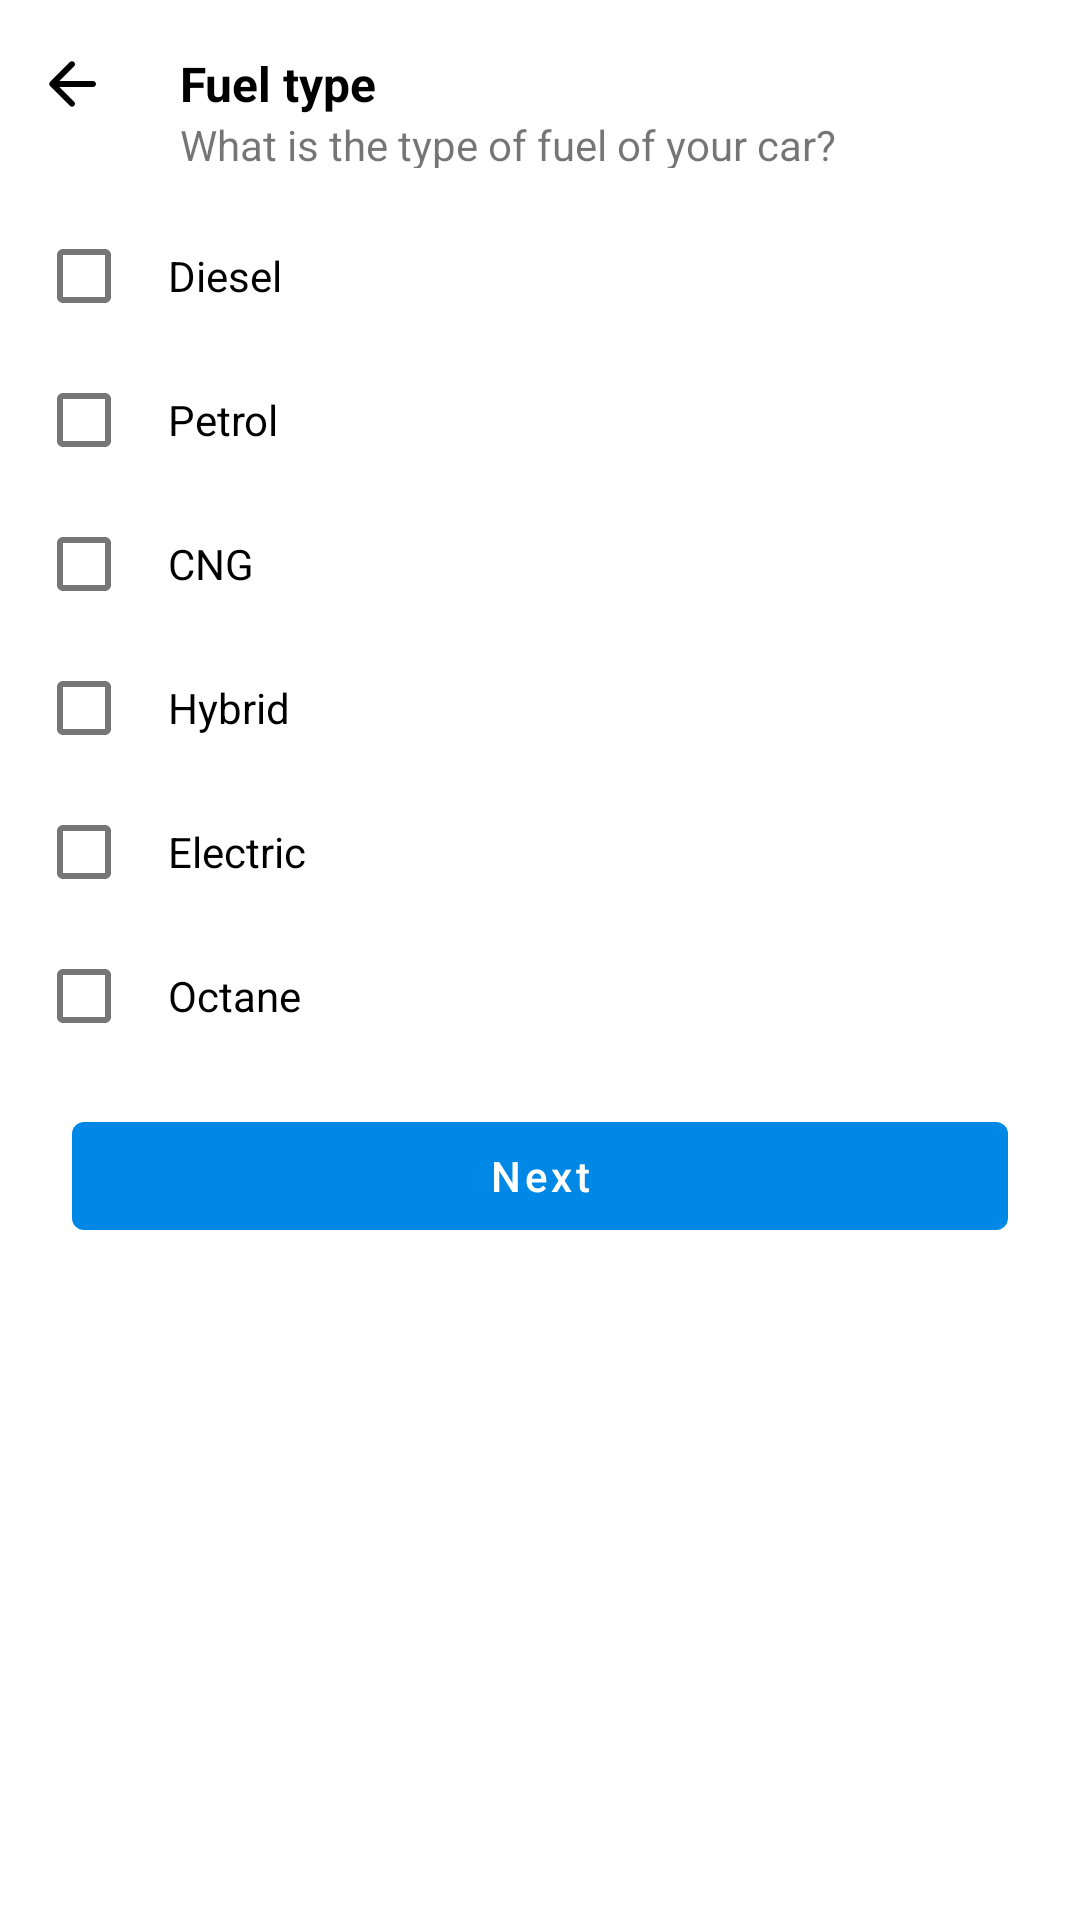

Point at icon controls on the screen. Image size 1080 × 1920, points as (x=x, y=y).
arrow back: (x=72, y=84)
